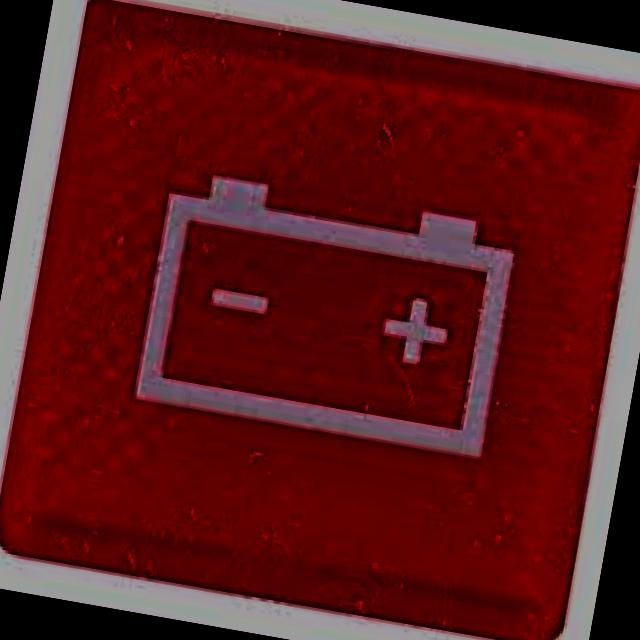kontrolka: (114, 148, 544, 472)
